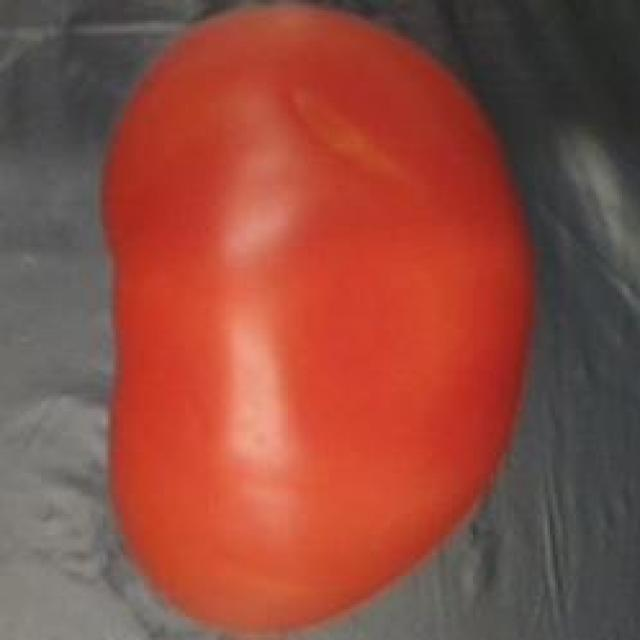ripe tomato: (80, 0, 552, 640)
